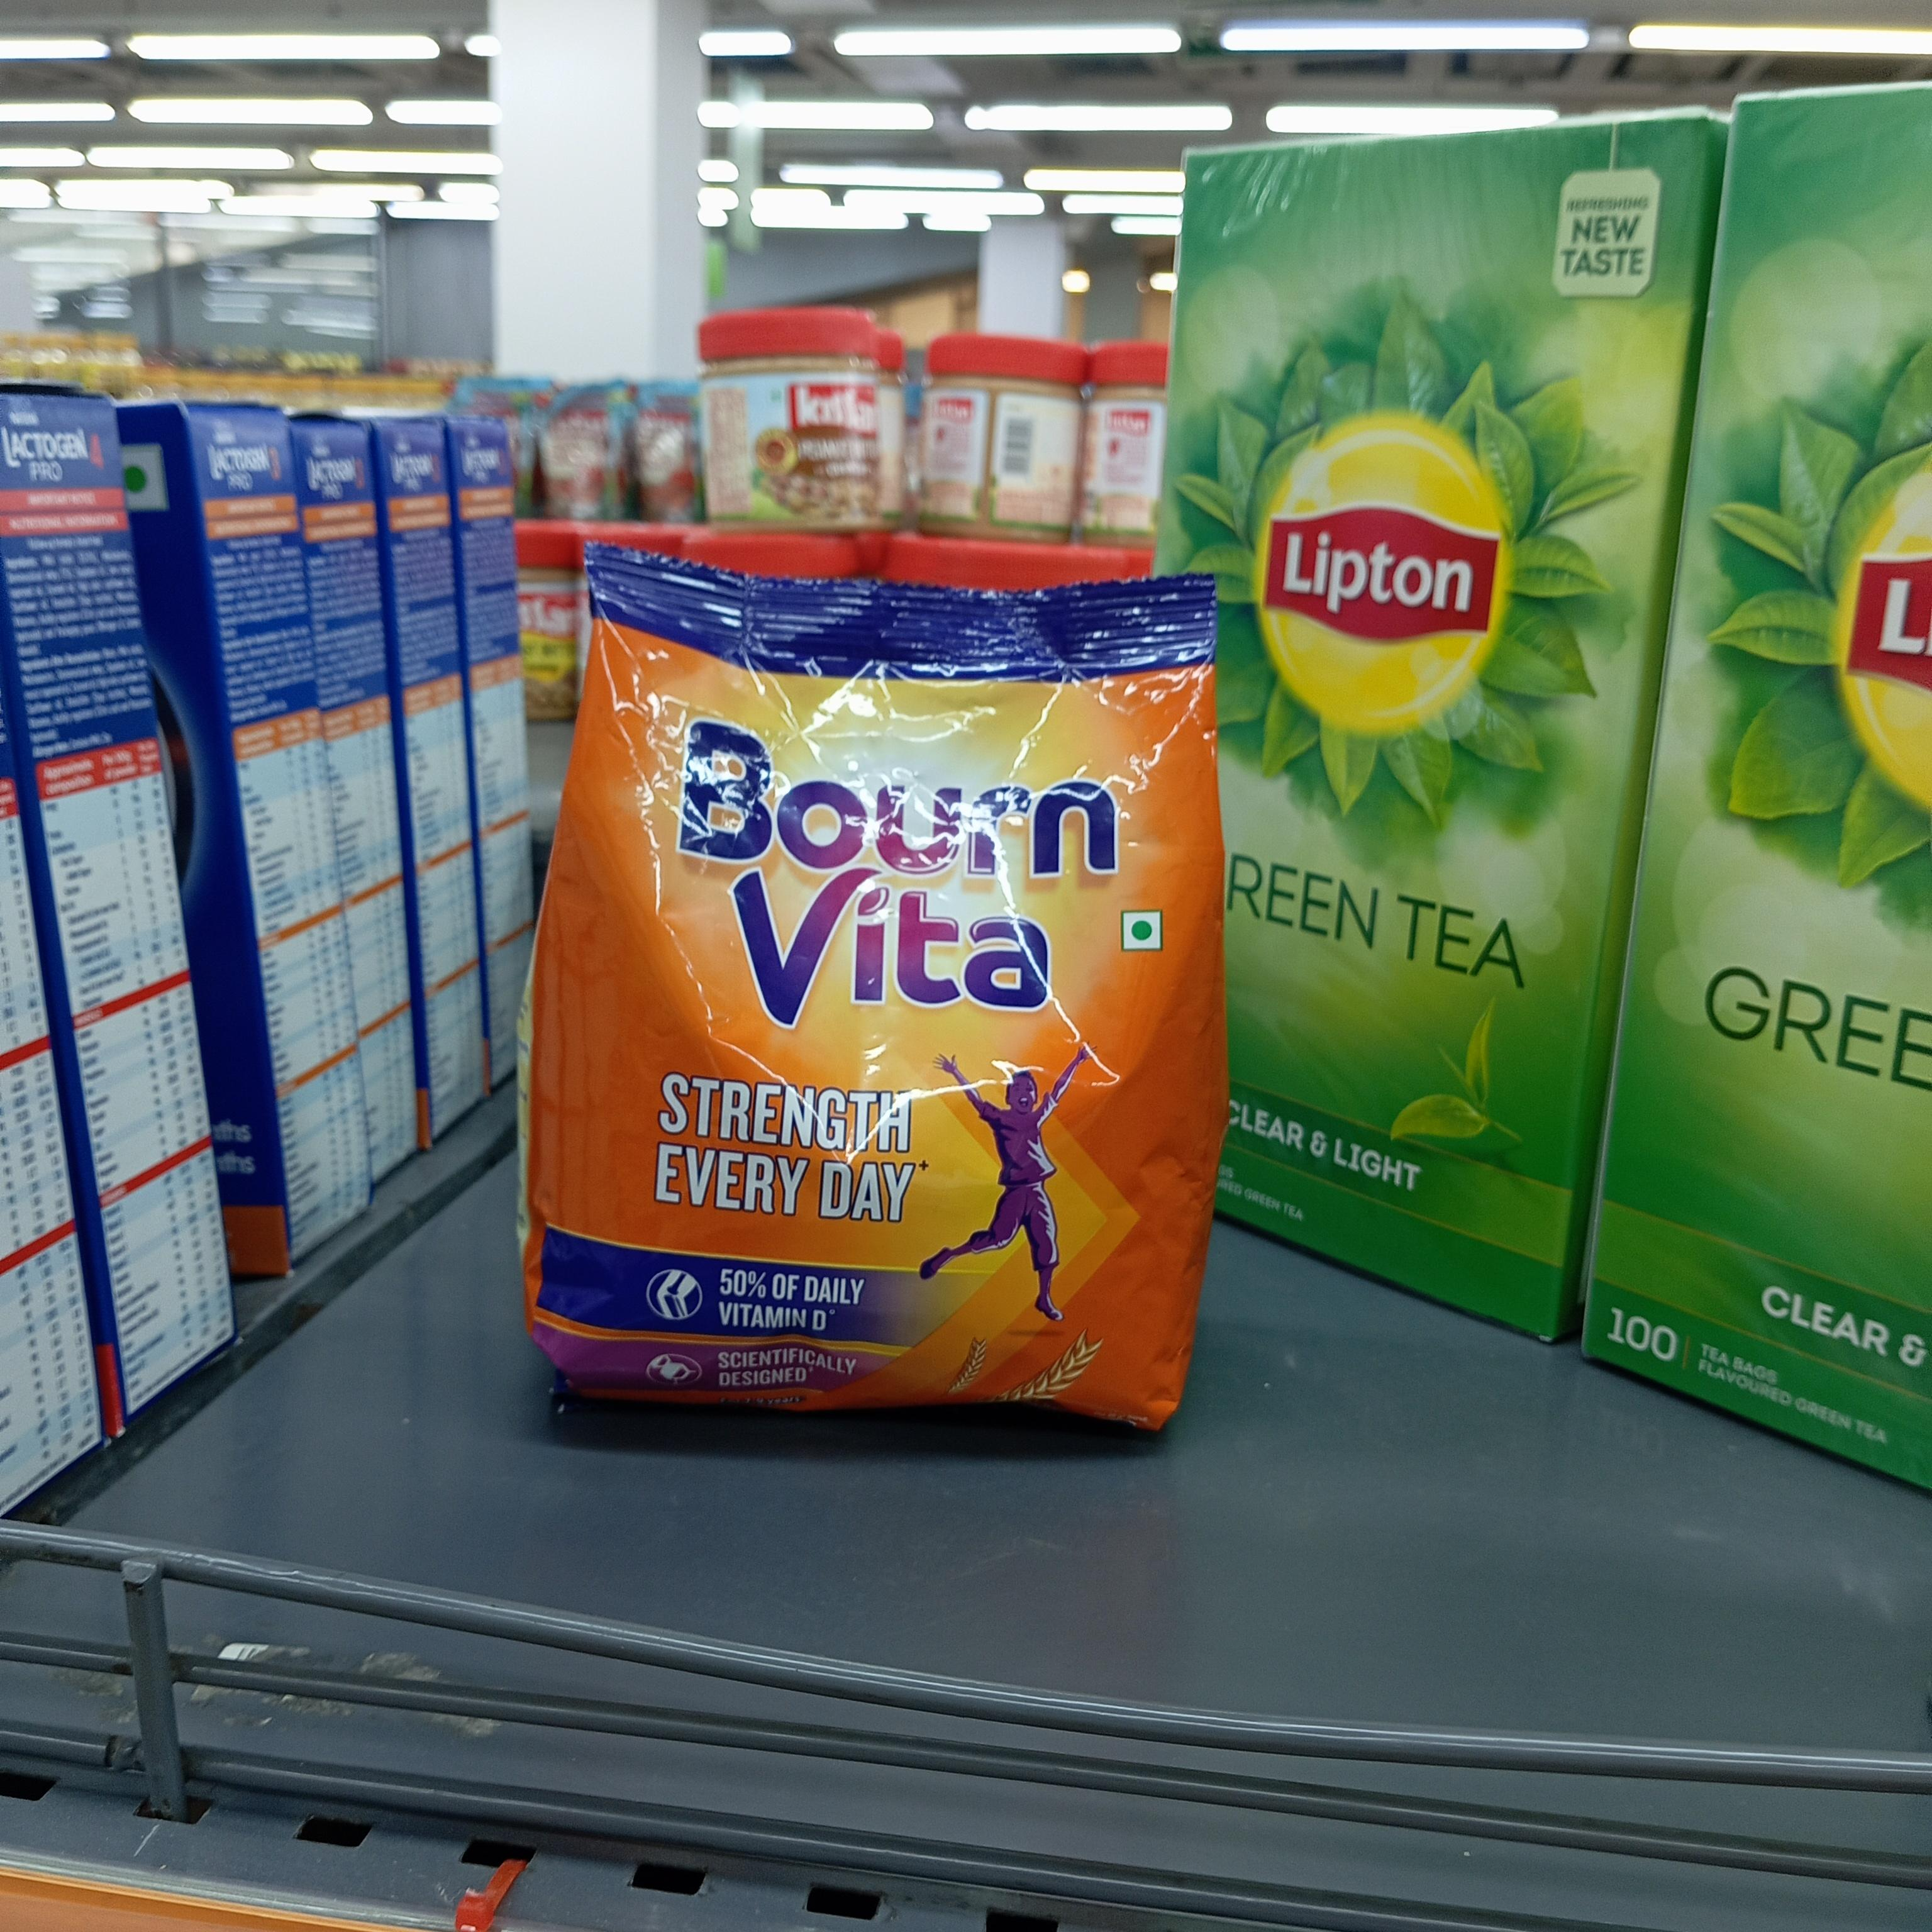BOURN_VITA_500_G_POUCH: (547, 515, 1203, 1437)
